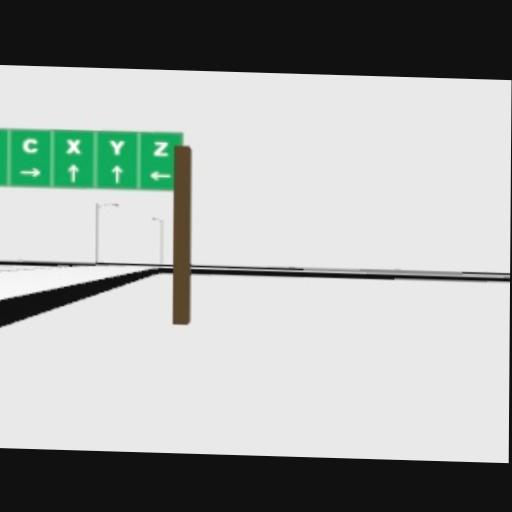C: (21, 135, 39, 153)
Left: (149, 169, 170, 180)
Right: (19, 166, 40, 176)
Straight: (68, 162, 78, 182), (111, 163, 121, 182)
X: (64, 136, 80, 152)
Y: (107, 138, 125, 153)
Z: (152, 139, 168, 154)
